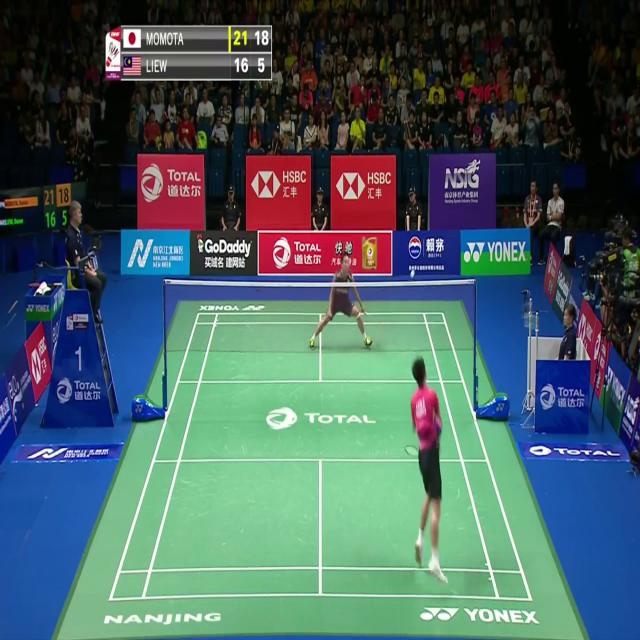Shuttlecock: (409, 268, 416, 280)
